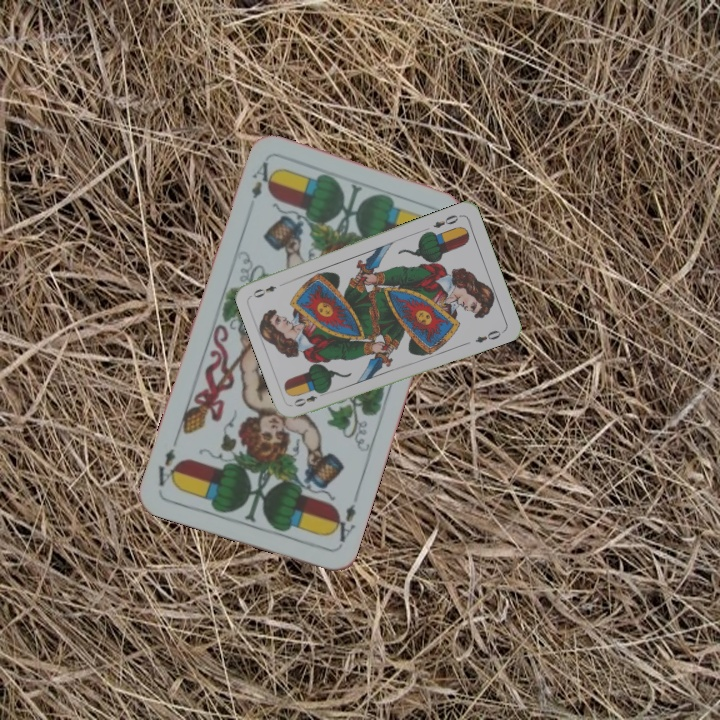EA: (327, 498, 359, 548), (247, 157, 275, 201)
EO: (290, 387, 329, 409), (429, 211, 464, 231)
